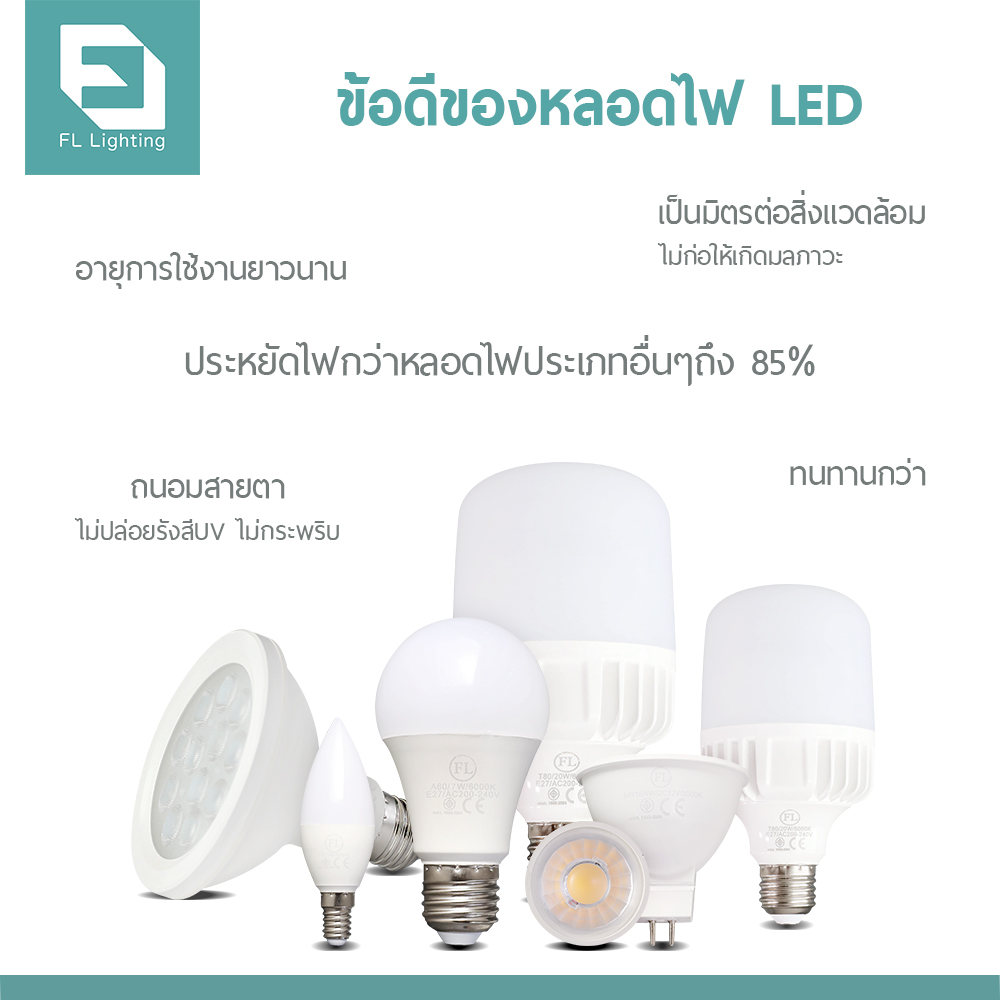Light_bulb: (434, 439, 674, 833), (693, 566, 897, 938), (124, 628, 364, 891), (373, 606, 534, 979), (290, 706, 390, 957), (513, 816, 659, 973)
